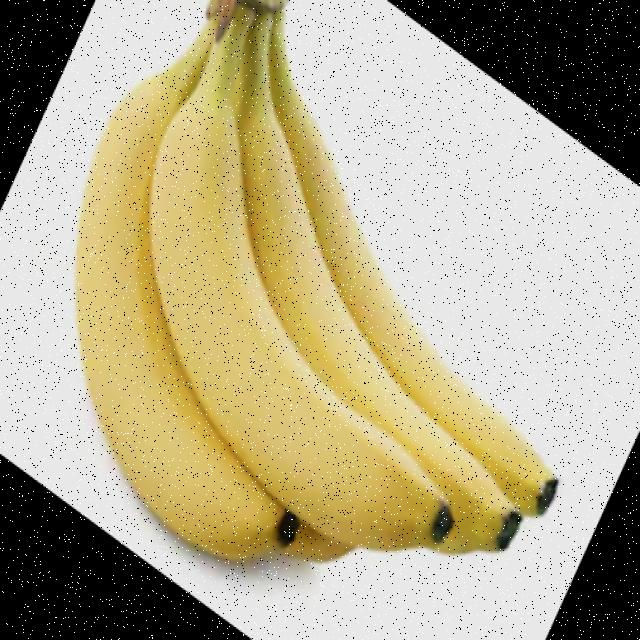god quality banana: (75, 0, 557, 561)
